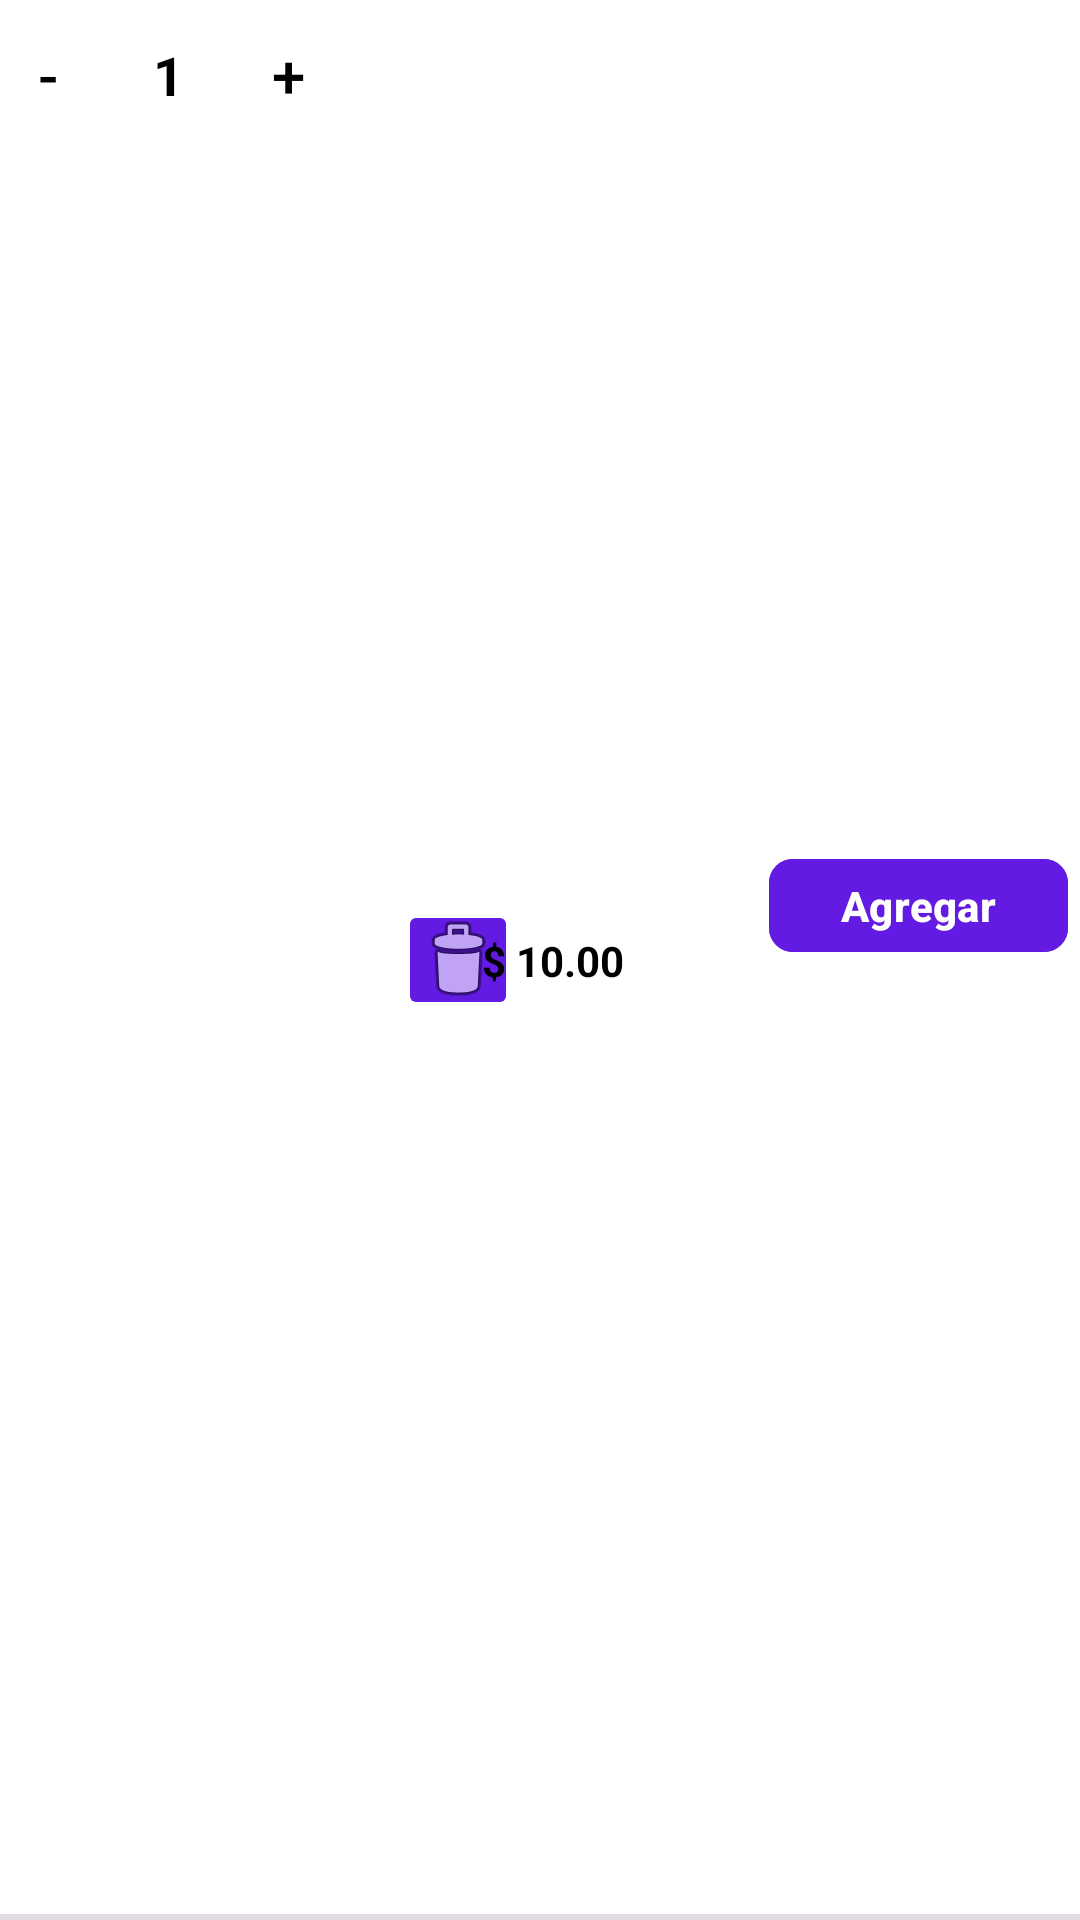

Screen size 1080x1920. Icon name, then its box in pixels as (x1, y1, x2, y2):
delete: (410, 918, 506, 1002)
